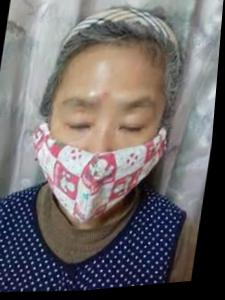WRONG: (29, 85, 172, 233)
